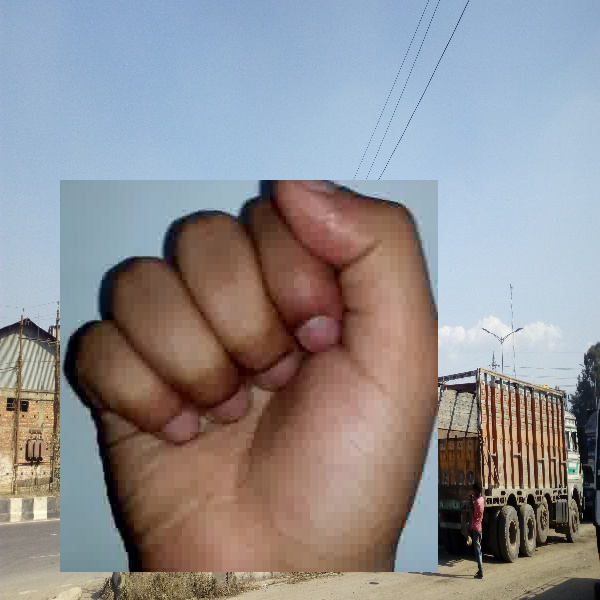A: (60, 180, 438, 572)
